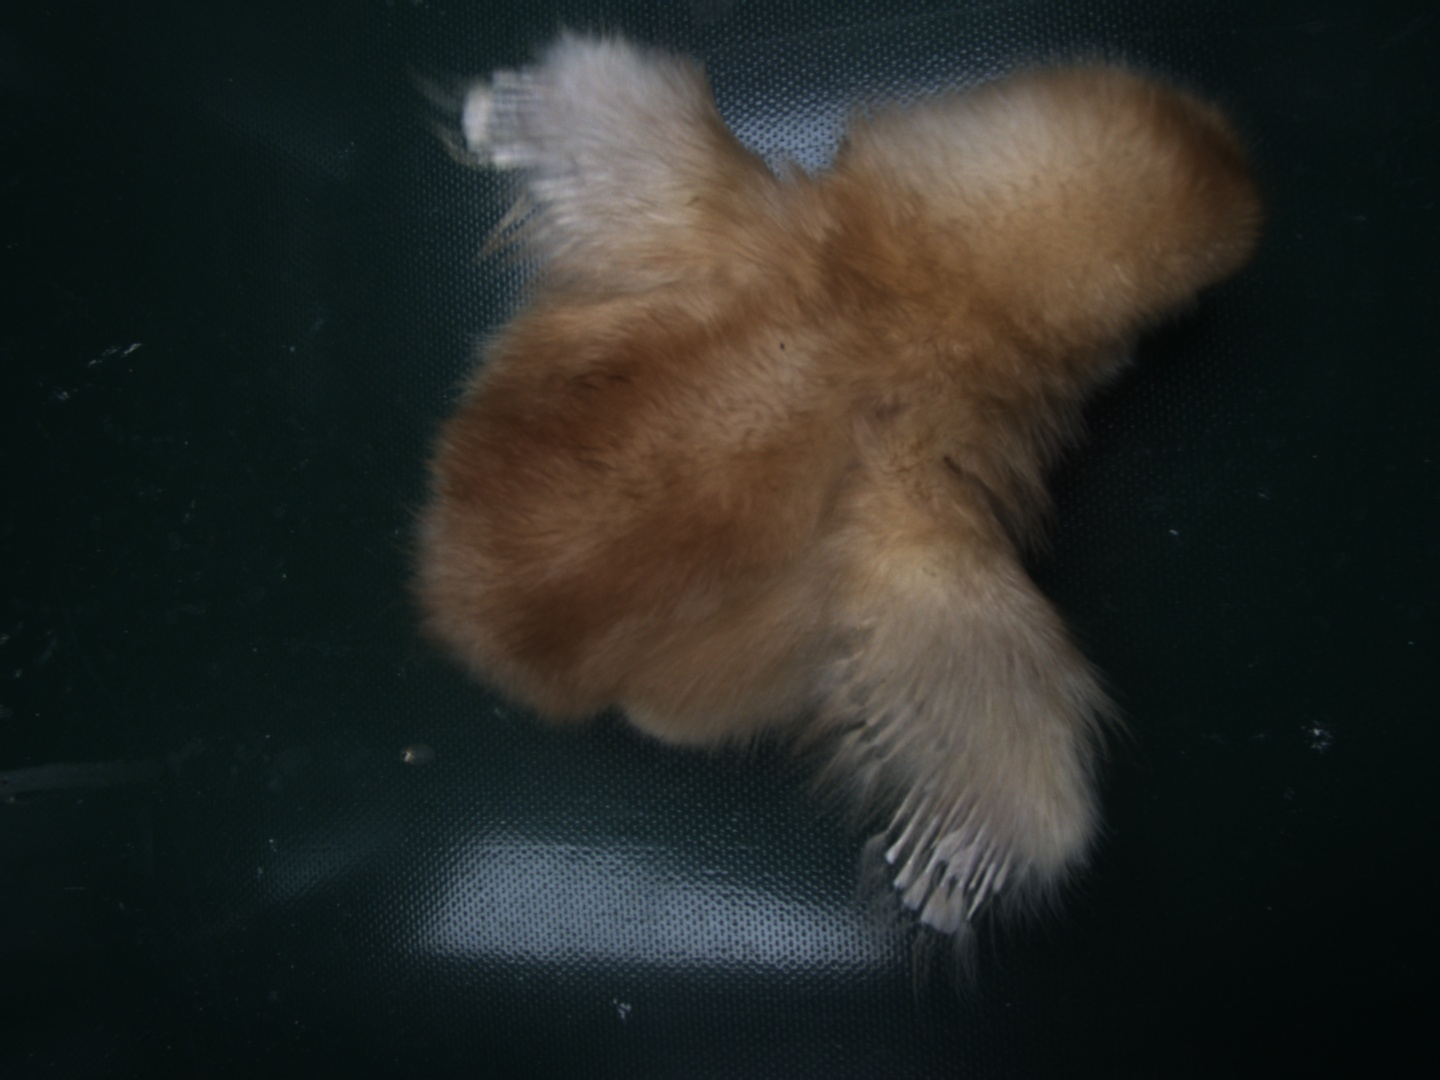female: (876, 769, 1014, 936)
